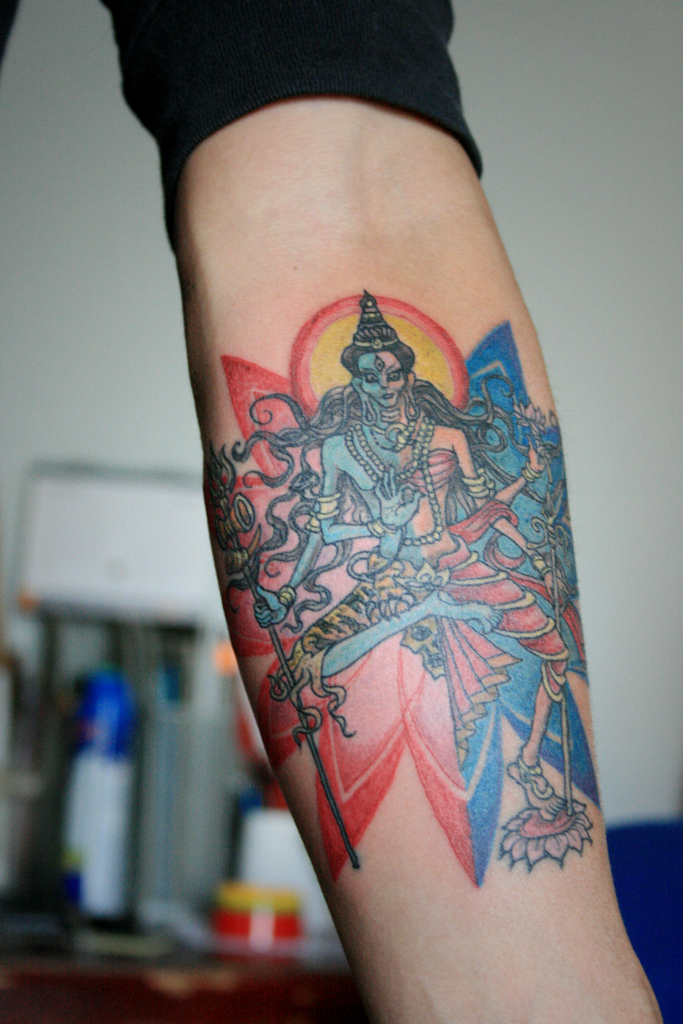Person: (0, 0, 663, 1022)
